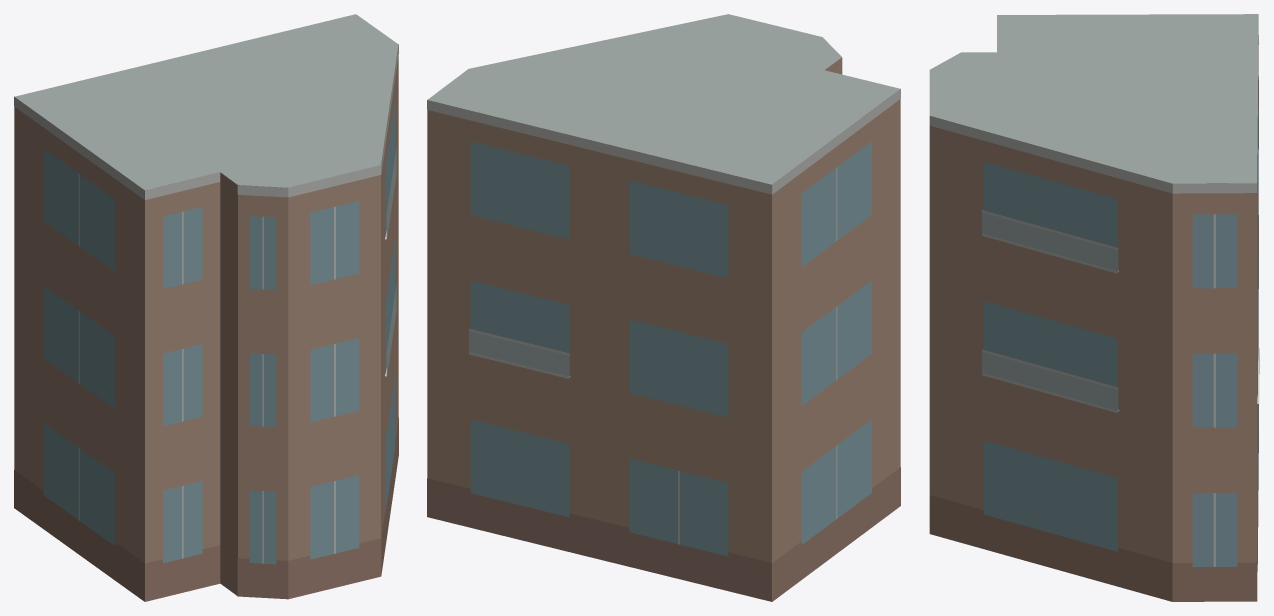
File: survey-upis-32487122.glb
3 renders of one model, left to right at view 1: azimuth 30°, elevation 25°; view 2: azimuth 150°, elevation 25°; view 3: azimuth 270°, elevation 25°, orthographic.
Parts seen in each view (by area): view 1: survey-upis-32487122.tmp; view 2: survey-upis-32487122.tmp; view 3: survey-upis-32487122.tmp.
Part boxes in pixels (left/top/right/bottom): survey-upis-32487122.tmp: left=14, top=14, right=398, bottom=601; survey-upis-32487122.tmp: left=427, top=14, right=900, bottom=601; survey-upis-32487122.tmp: left=929, top=14, right=1259, bottom=601.
Bounding box in the file's own units: 8.97 × 10.3 × 7.37.
